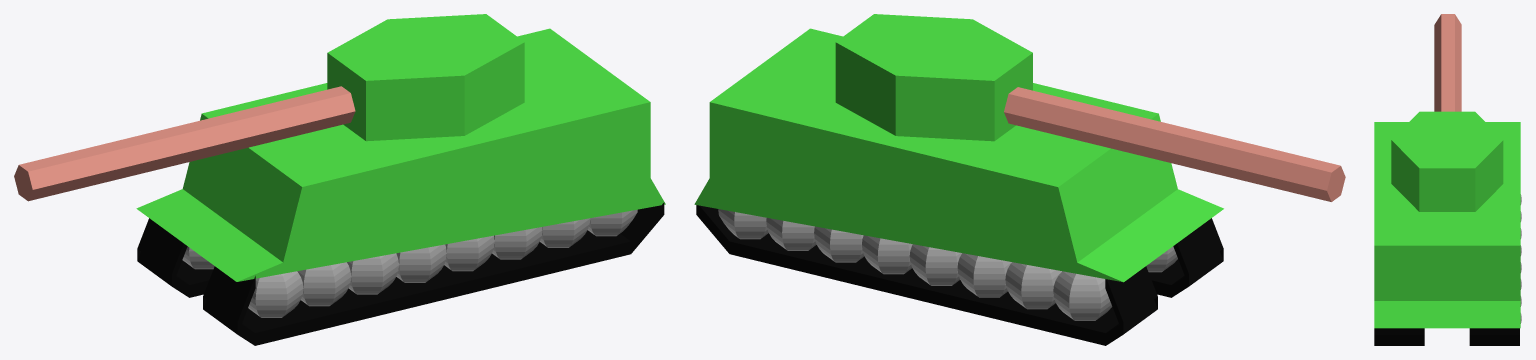
The model's file is tank.fbx.
3 views of the same model, side by side, from view 1: azimuth 30°, elevation 25°; view 2: azimuth 150°, elevation 25°; view 3: azimuth 270°, elevation 25° (orthographic). The views are drawn at different scales.
Visible parts, largest first — view 1: Cube, Cylinder, Cube.002, Cylinder.001, Sphere.001, Cube.001; view 2: Cube, Cylinder, Cylinder.001, Sphere, Cube.001, Cube.002; view 3: Cube, Cylinder, Cylinder.001, Cube.001, Cube.002, Sphere.
Boxes of the visible parts, x1,y1,x2,y2 form: Cube: [136, 28, 665, 281]; Cylinder: [327, 14, 524, 141]; Cube.002: [203, 202, 664, 345]; Cylinder.001: [14, 86, 355, 201]; Sphere.001: [248, 209, 637, 317]; Cube.001: [137, 218, 213, 297]; Cube: [694, 28, 1223, 282]; Cylinder: [835, 14, 1032, 141]; Cylinder.001: [1004, 87, 1345, 201]; Sphere: [718, 209, 1112, 320]; Cube.001: [696, 205, 1157, 345]; Cube.002: [1148, 218, 1223, 297]; Cube: [1374, 122, 1520, 328]; Cylinder: [1391, 111, 1503, 211]; Cylinder.001: [1434, 14, 1461, 111]; Cube.001: [1469, 328, 1519, 345]; Cube.002: [1374, 328, 1424, 345]; Sphere: [1520, 194, 1521, 323].
Bounding box in the file's own units: 1485 × 498 × 441.
